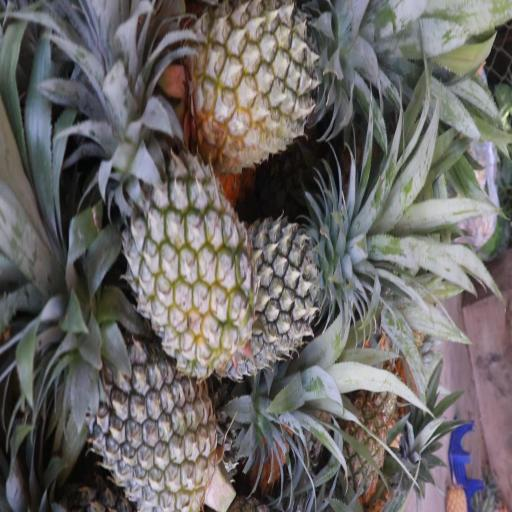------------------------------: (119, 131, 254, 369), (195, 0, 363, 165)
